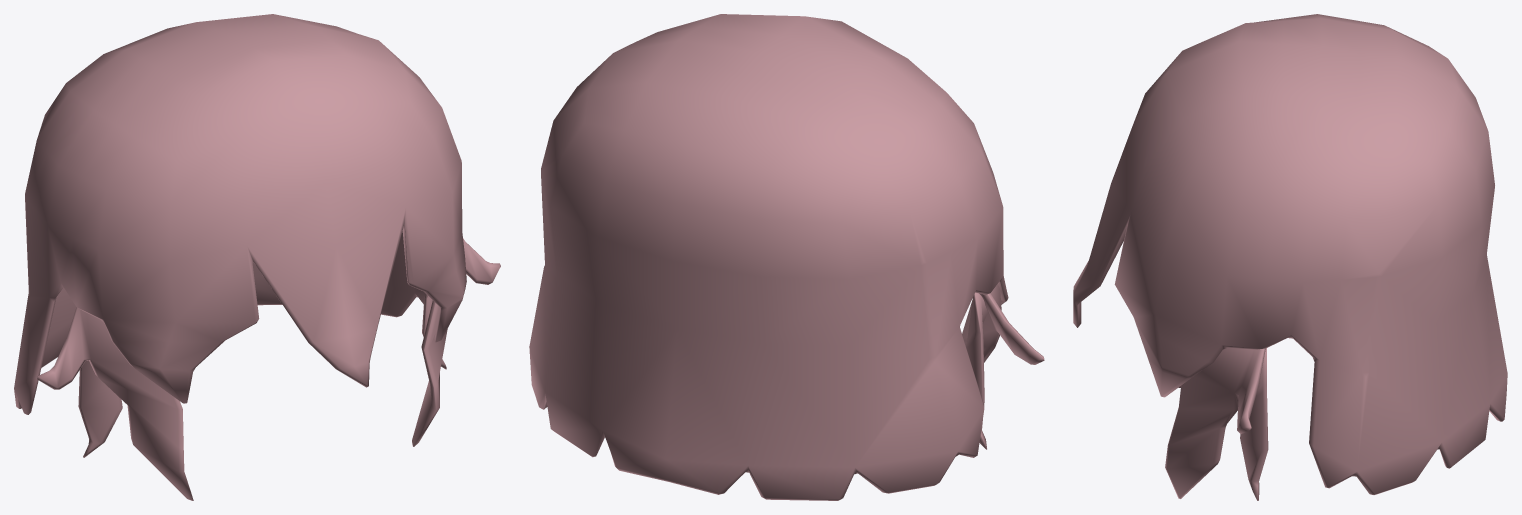
Rendered from Fumo_Pink.gltf.
3 views of the same model, side by side, from view 1: azimuth 30°, elevation 25°; view 2: azimuth 150°, elevation 25°; view 3: azimuth 270°, elevation 25° (orthographic). The views are drawn at different scales.
Visible parts, largest first — view 1: Fumo_Pink; view 2: Fumo_Pink; view 3: Fumo_Pink.
Part boxes in pixels (x1,y1,x2,y2): Fumo_Pink: (14,14,500,500); Fumo_Pink: (529,14,1044,500); Fumo_Pink: (1073,14,1507,500).
Size of the model in its own units: 1.18 by 0.9524 by 0.9326.
